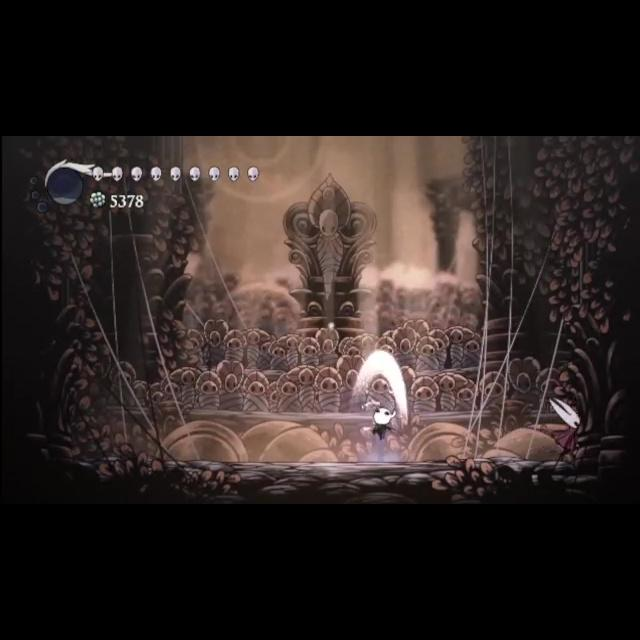Enemy: (540, 394, 592, 466)
Player: (368, 406, 404, 442)
